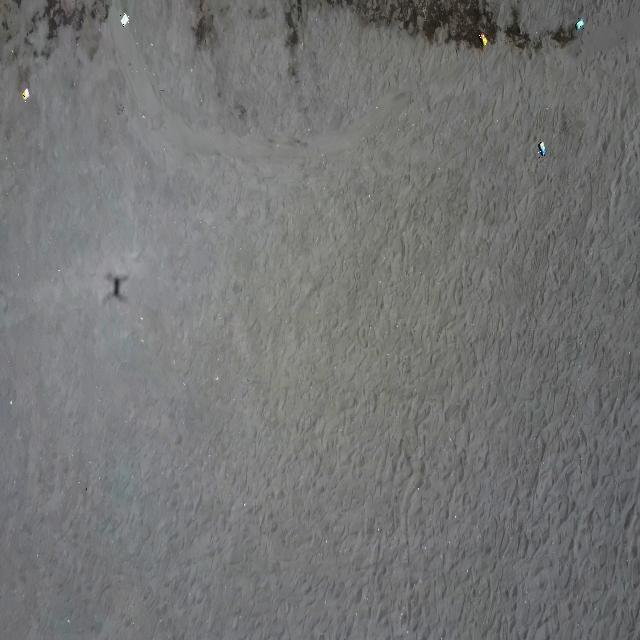Garbage: (537, 140, 546, 156), (120, 12, 128, 26), (575, 18, 584, 30), (479, 32, 487, 45), (20, 88, 28, 100)
